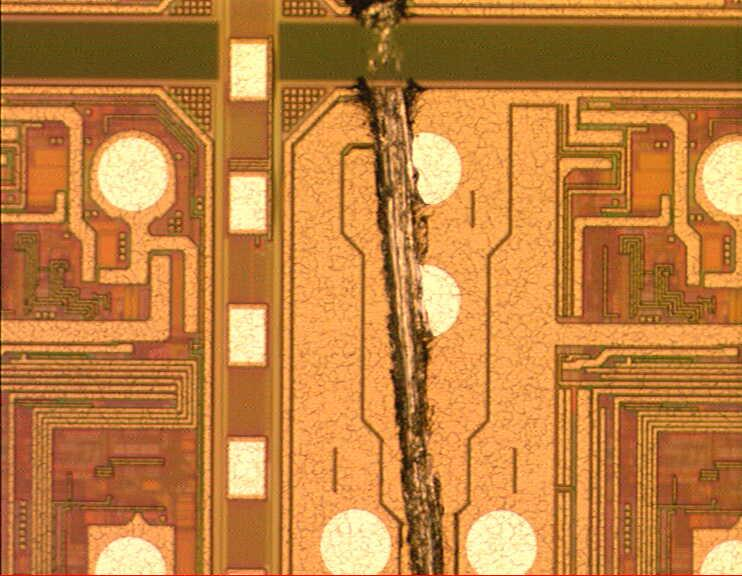SCRATCH: (328, 1, 464, 576)
